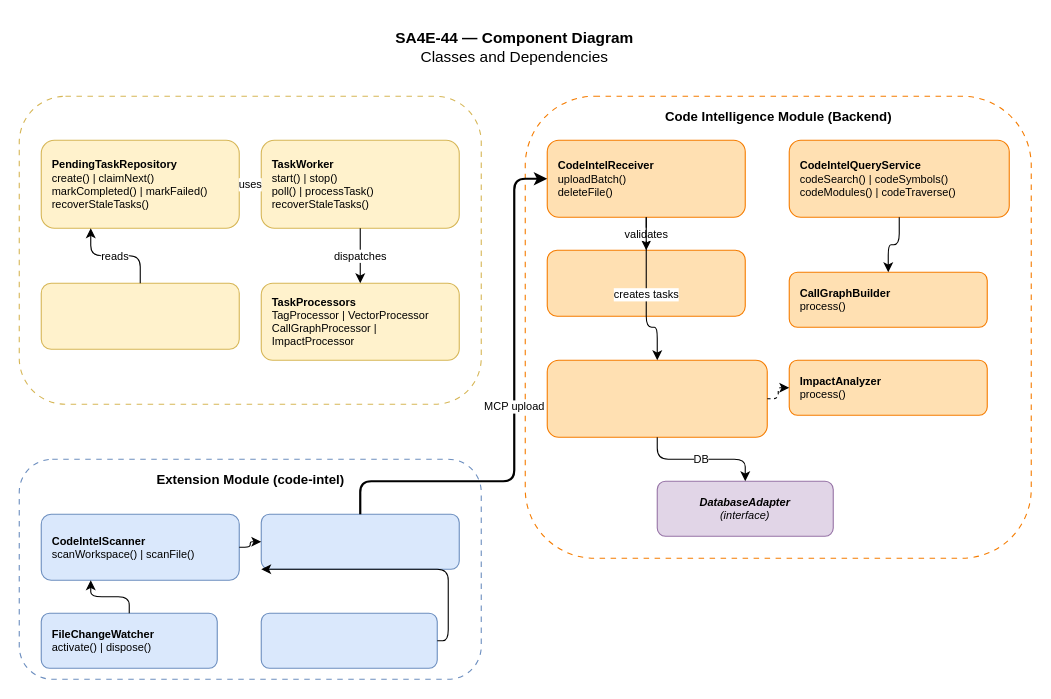
Some shapes in this 1051 by 699 pixel diagram are drawn without their labels. The box of each missing label's shape, as (x1, y1, x2, y2) in pixels:
CodeIntelUploader uploadBatch(): (260, 513, 459, 569)
EnrichmentTaskCreator createCallGraphTask() createImpactAnalysisTask(): (546, 359, 767, 437)
PayloadValidator validateFile() validatePath(): (546, 249, 745, 316)
Task Queue Module: (18, 95, 481, 404)
TaskMonitor getStats() | listFailed() retryTask(): (40, 282, 239, 349)
TimestampResolver resolve(): (260, 612, 437, 668)
